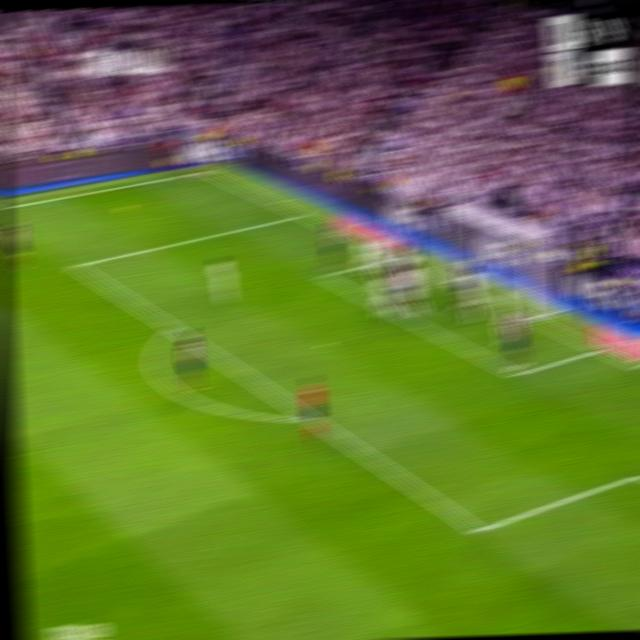bigarea_bottom_inner: (467, 512, 490, 546)
bigarea_top_inner: (69, 256, 84, 273)
bigarea_top_outter: (293, 207, 308, 220)
bottom_arc_area_intersection: (300, 407, 320, 427)
corner: (197, 164, 214, 174)
smallarea_bottom_inner: (507, 365, 524, 382)
smallarea_bottom_outter: (589, 341, 606, 356)
smallarea_top_inner: (317, 268, 331, 282)
top_arc_area_intersection: (162, 316, 179, 336)
